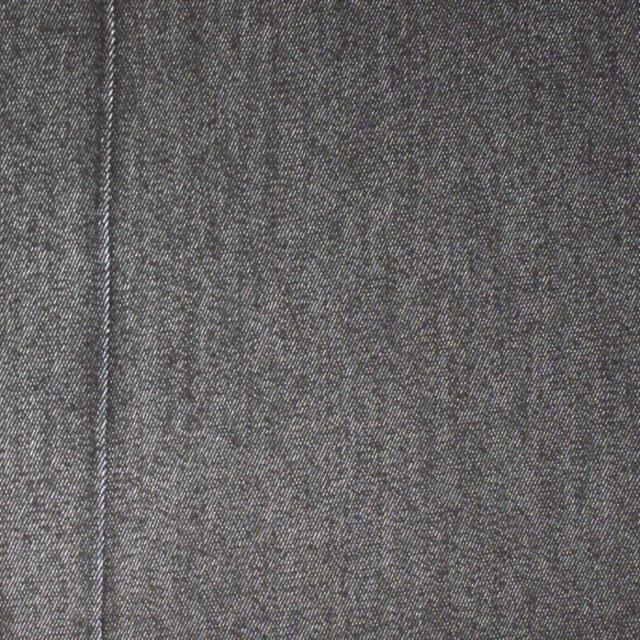Warp_Weft: (87, 0, 122, 634)
